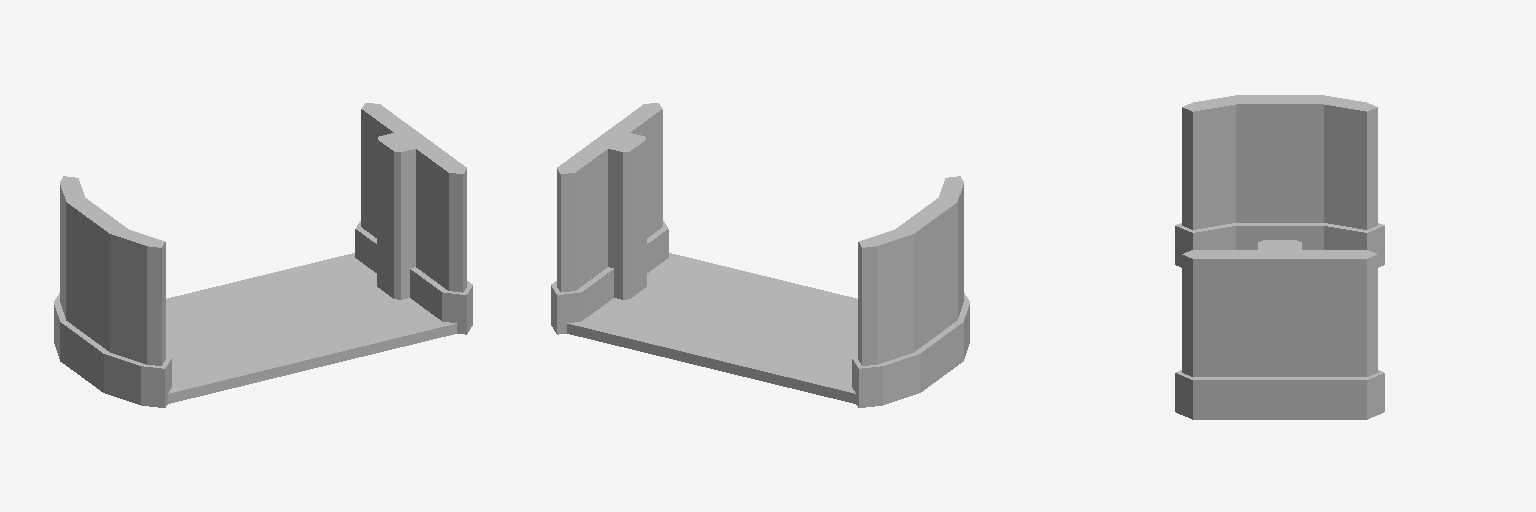
File: hallway_short_03.obj
3 views of the same model, side by side, from view 1: azimuth 30°, elevation 25°; view 2: azimuth 150°, elevation 25°; view 3: azimuth 270°, elevation 25° (orthographic).
Visible parts, largest first — view 1: floor_05_99, wall_03_101, wall_02_100; view 2: floor_05_99, wall_03_101, wall_02_100; view 3: wall_02_100, wall_03_101.
Part boxes in pixels (left/top/right/bottom): floor_05_99: left=166, top=253, right=456, bottom=403; wall_03_101: left=54, top=176, right=171, bottom=407; wall_02_100: left=355, top=103, right=472, bottom=334; floor_05_99: left=567, top=253, right=857, bottom=403; wall_03_101: left=852, top=176, right=969, bottom=407; wall_02_100: left=551, top=103, right=668, bottom=334; wall_02_100: left=1175, top=240, right=1384, bottom=419; wall_03_101: left=1175, top=95, right=1384, bottom=267.
Bounding box in the file's own units: 2.31 × 1 × 1.21.